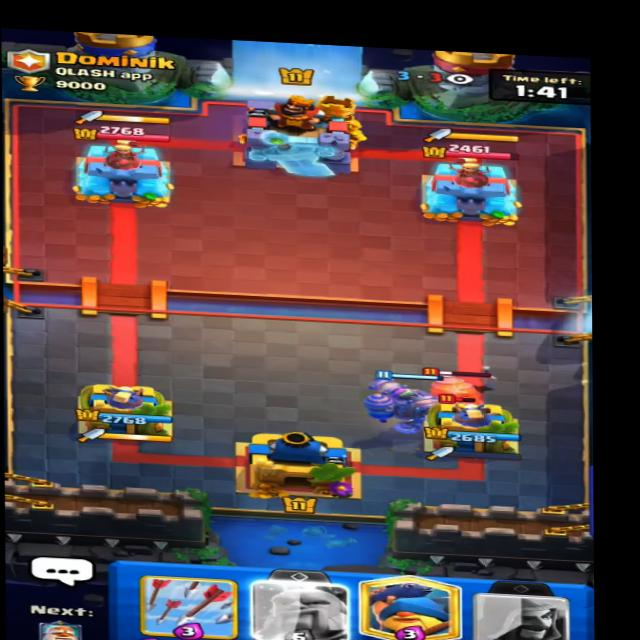goblin-drill: (422, 362, 504, 414)
